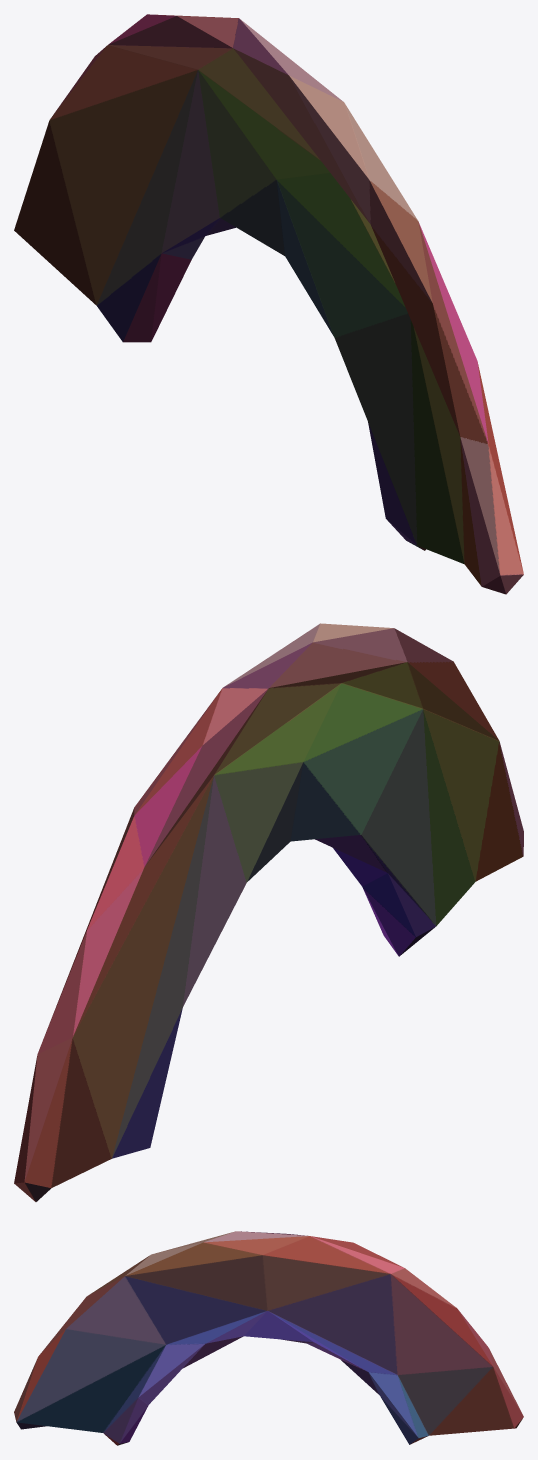
The model's file is rainbow.fbx.
3 views of the same model, one above another, from view 1: azimuth 30°, elevation 25°; view 2: azimuth 150°, elevation 25°; view 3: azimuth 270°, elevation 25° (orthographic). The views are drawn at different scales.
Parts seen in each view (by area): view 1: Mesh_0; view 2: Mesh_0; view 3: Mesh_0.
Boxes of the visible parts, x1,y1,x2,y2 form: Mesh_0: (14, 14, 523, 594); Mesh_0: (14, 623, 523, 1201); Mesh_0: (14, 1231, 523, 1445).
Size of the model in its own units: 7.61 by 54.09 by 119.
1 material, 1 textured.
